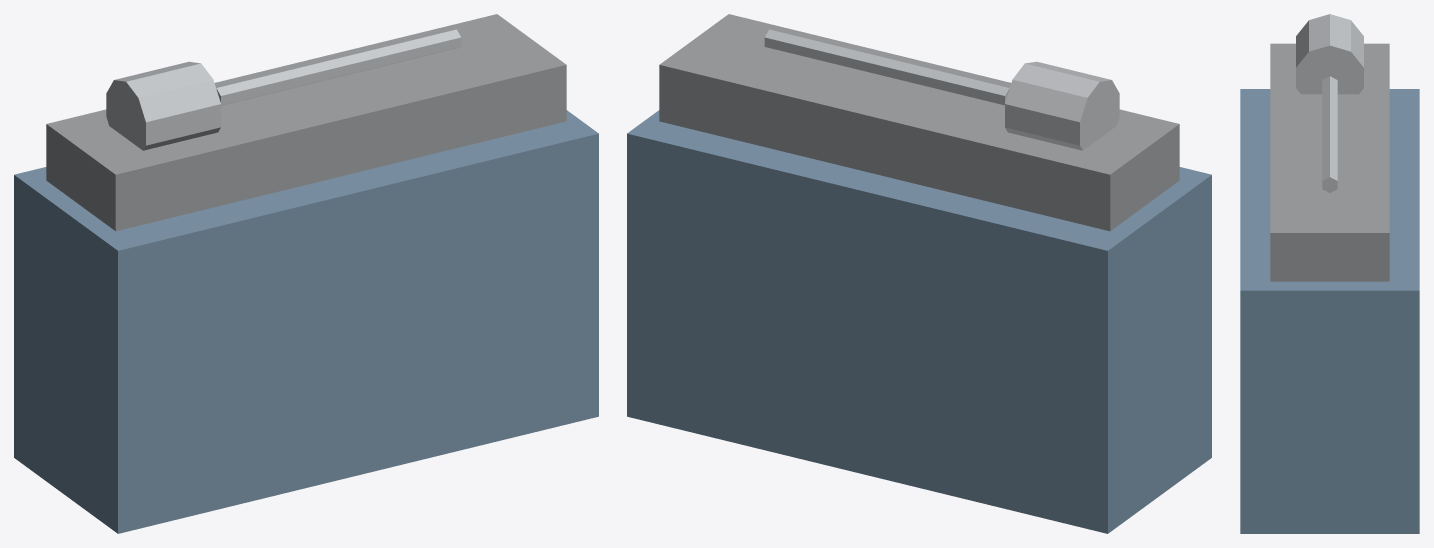
File: deploy_lathe.glb
3 views of the same model, side by side, from view 1: azimuth 30°, elevation 25°; view 2: azimuth 150°, elevation 25°; view 3: azimuth 270°, elevation 25° (orthographic). The views are drawn at different scales.
Visible parts, largest first — view 1: deploy_lathe; view 2: deploy_lathe; view 3: deploy_lathe.
Part boxes in pixels (left/top/right/bottom): deploy_lathe: left=14, top=14, right=598, bottom=533; deploy_lathe: left=627, top=14, right=1211, bottom=533; deploy_lathe: left=1240, top=14, right=1419, bottom=533.
Bounding box in the file's own units: 1.6 × 1.27 × 0.6.
